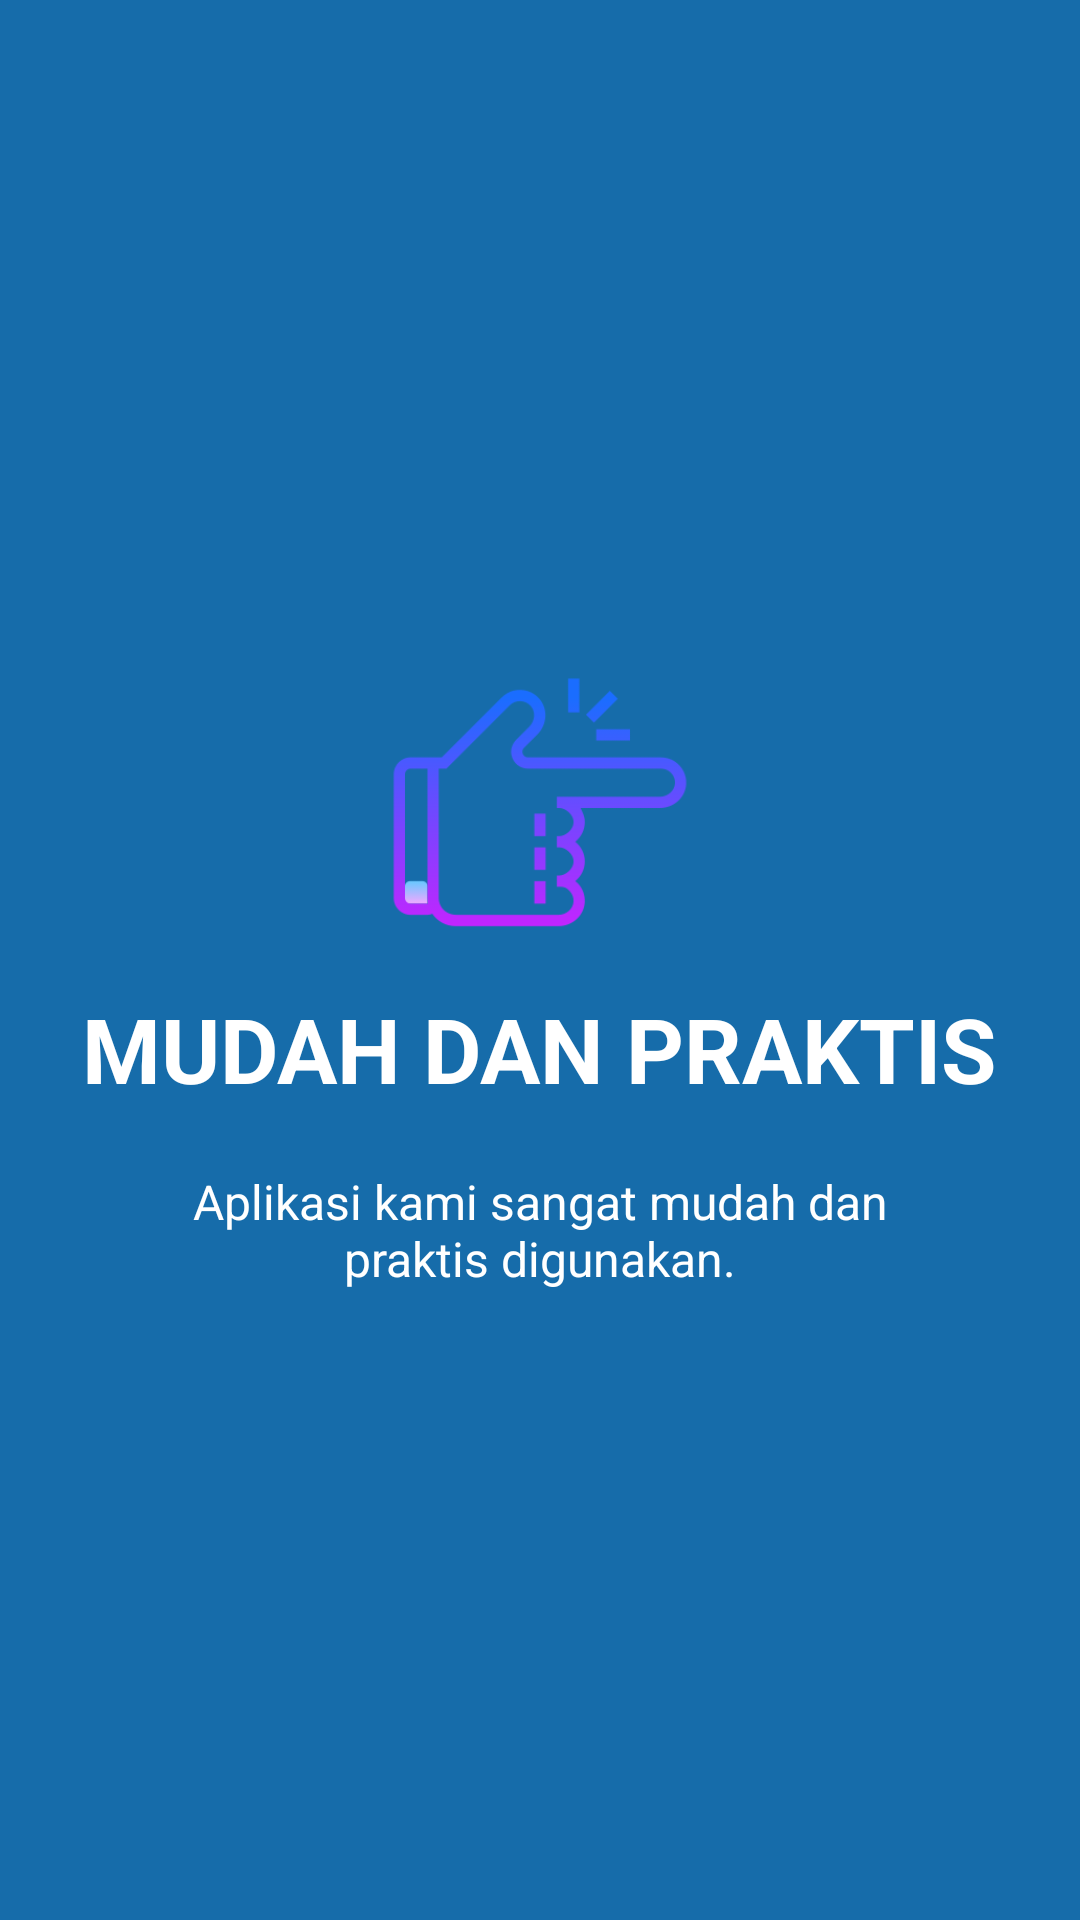

Named icons in this screenshot (1080px×1920px) and their centers, point (x, y):
slide: point (540, 802)
